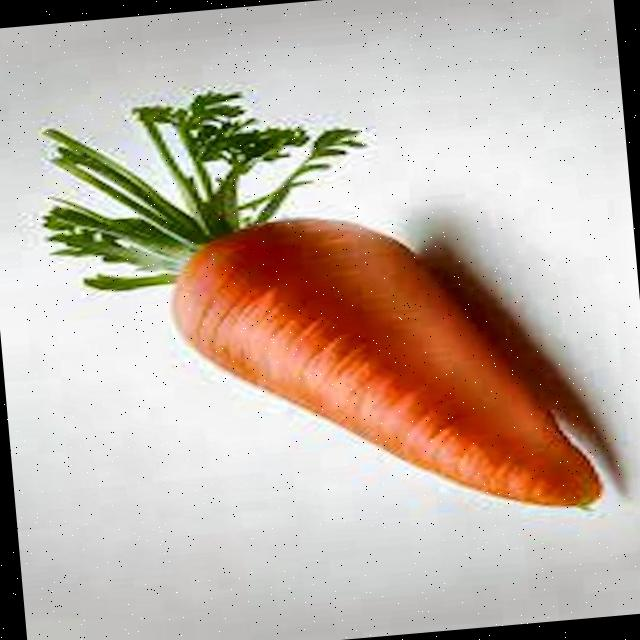carrot: (43, 90, 601, 506)
